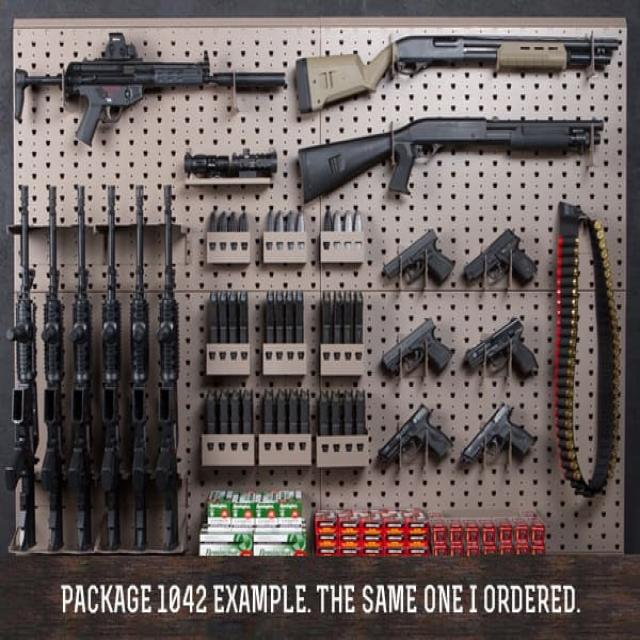HandGun: (459, 404, 537, 473), (377, 405, 452, 470), (382, 318, 454, 382), (461, 229, 537, 288), (382, 229, 455, 286), (463, 318, 535, 375)
Rifle: (5, 187, 38, 549), (155, 185, 178, 552), (42, 188, 64, 553), (70, 191, 91, 552), (101, 187, 119, 550), (132, 185, 148, 549)
SMG: (19, 33, 272, 147)
ShotGun: (295, 35, 620, 113), (299, 119, 604, 202)
